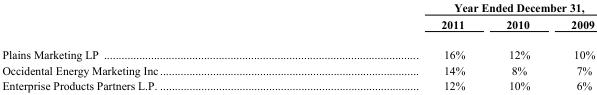table: (1, 0, 594, 91)
table column: (1, 0, 298, 91), (298, 0, 484, 91), (484, 0, 549, 91), (549, 0, 594, 91)
table column header: (1, 0, 594, 39)
table row: (1, 15, 594, 39), (1, 39, 594, 62), (1, 0, 594, 15), (1, 62, 594, 77), (1, 77, 594, 91)
table spanning cell: (298, 0, 594, 15)
